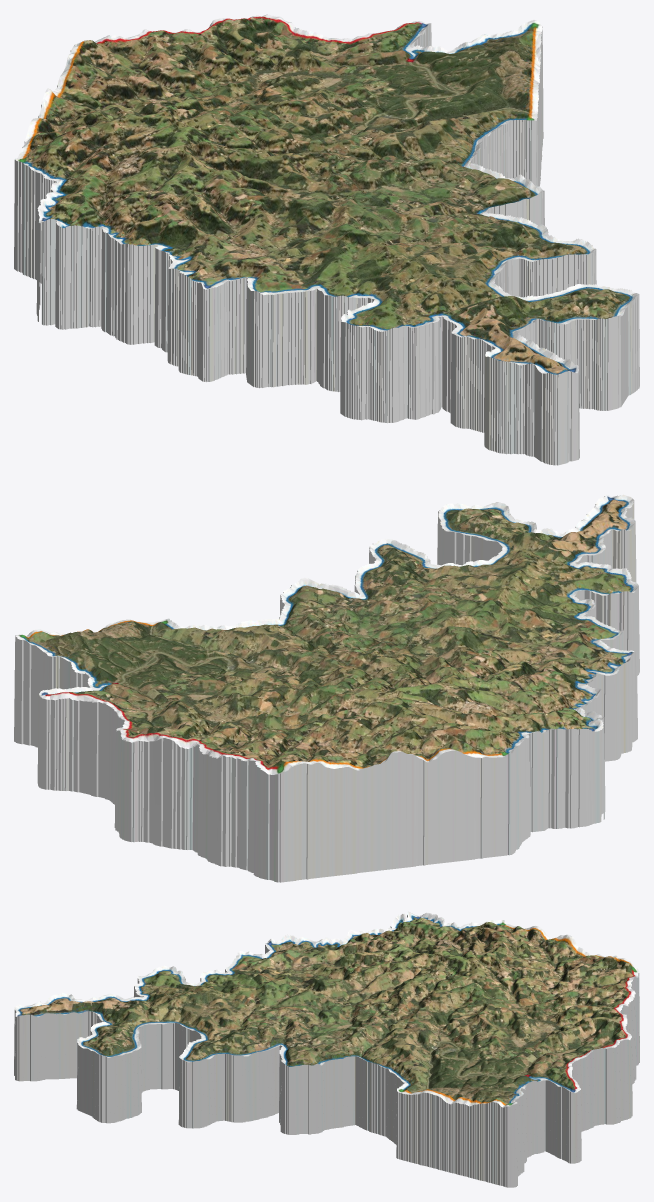
3 renders of one model, top to bottom at view 1: azimuth 30°, elevation 25°; view 2: azimuth 150°, elevation 25°; view 3: azimuth 270°, elevation 25°, orthographic. The views are drawn at different scales.
Bounding box in the file's own units: 0.9997 × 0.2145 × 1.31.
Materials: 1 (1 with a texture image).
